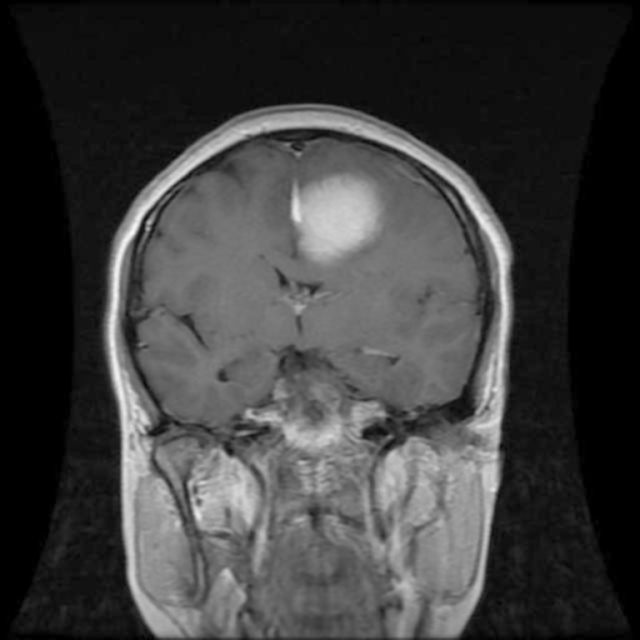meningioma tumor: (290, 147, 390, 275)
